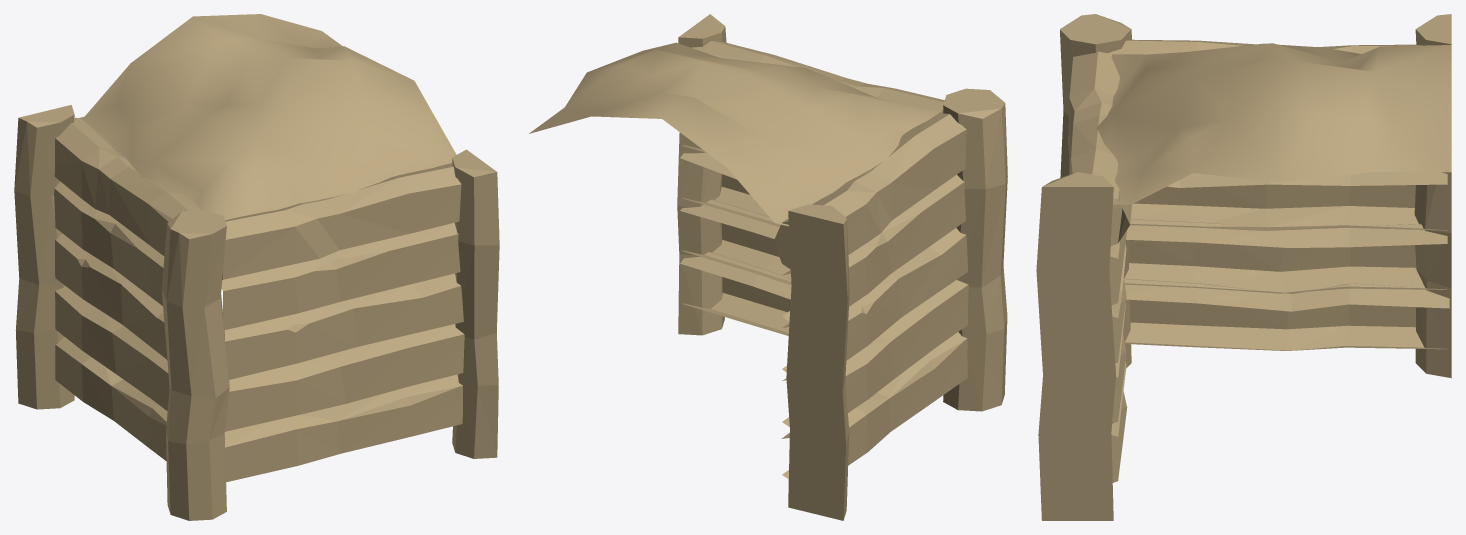
Rendered from 20C_trench_200_Half.fbx.
The picture shows the model from 3 angles, left to right: view 1: azimuth 30°, elevation 25°; view 2: azimuth 150°, elevation 25°; view 3: azimuth 270°, elevation 25°; orthographic projection. The views are drawn at different scales.
Parts seen in each view (by area): view 1: 20C_trench_200_Half; view 2: 20C_trench_200_Half; view 3: 20C_trench_200_Half.
Part boxes in pixels (x1,y1,x2,y2): 20C_trench_200_Half: [14, 14, 499, 520]; 20C_trench_200_Half: [529, 14, 1007, 520]; 20C_trench_200_Half: [1036, 14, 1451, 520].
Size of the model in its own units: 24.7 by 24.96 by 23.33.
